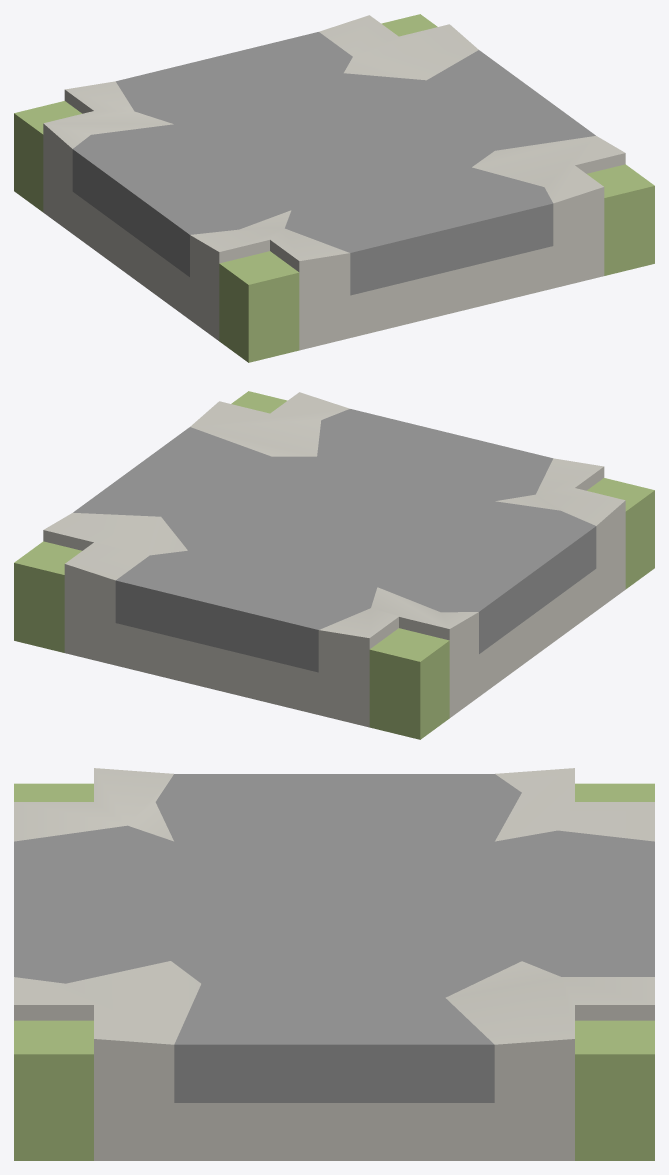
File: SM_ROAD_05.fbx
3 views of the same model, one above another, from view 1: azimuth 30°, elevation 25°; view 2: azimuth 150°, elevation 25°; view 3: azimuth 270°, elevation 25° (orthographic). The views are drawn at different scales.
Parts seen in each view (by area): view 1: ROAD_05; view 2: ROAD_05; view 3: ROAD_05.
Boxes of the visible parts, bbox=[...] form: ROAD_05: bbox=[14, 14, 654, 362]; ROAD_05: bbox=[14, 391, 654, 739]; ROAD_05: bbox=[14, 768, 654, 1160].
Size of the model in its own units: 437 by 91.85 by 437.
